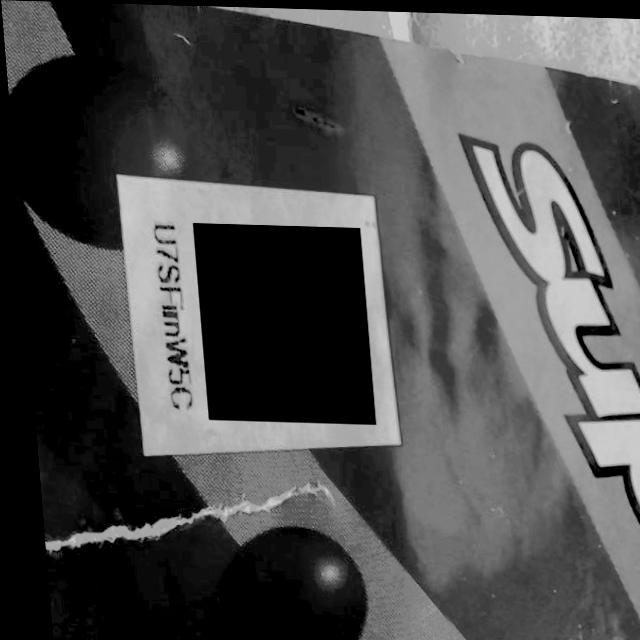qr_code: (188, 222, 369, 423)
